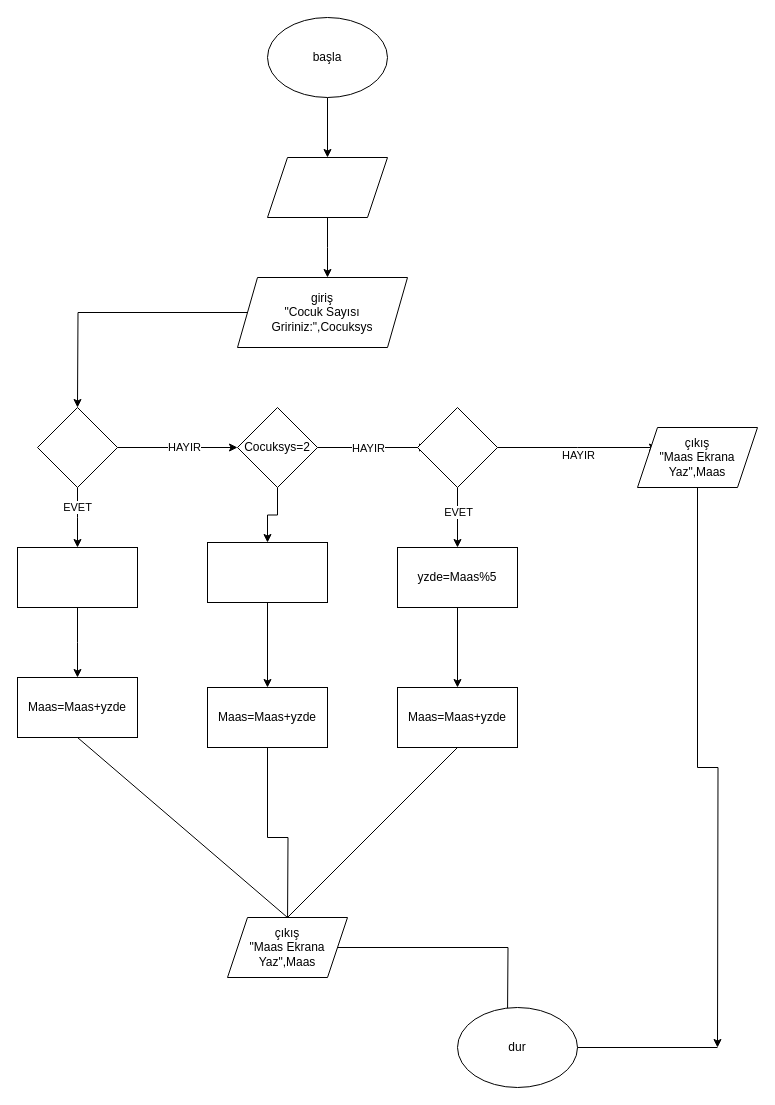
Some shapes in this 775 by 1105 pixel diagram are drawn without their labels. Each missing label, with the centre of its shape:
Cocuksys=1: (x=457, y=447)
Cocuksys>=3: (x=77, y=447)
giriş "Maaş giriniz",Maas: (x=327, y=187)
yzde=Maas%10: (x=267, y=572)
yzde=Maas%15: (x=77, y=577)
